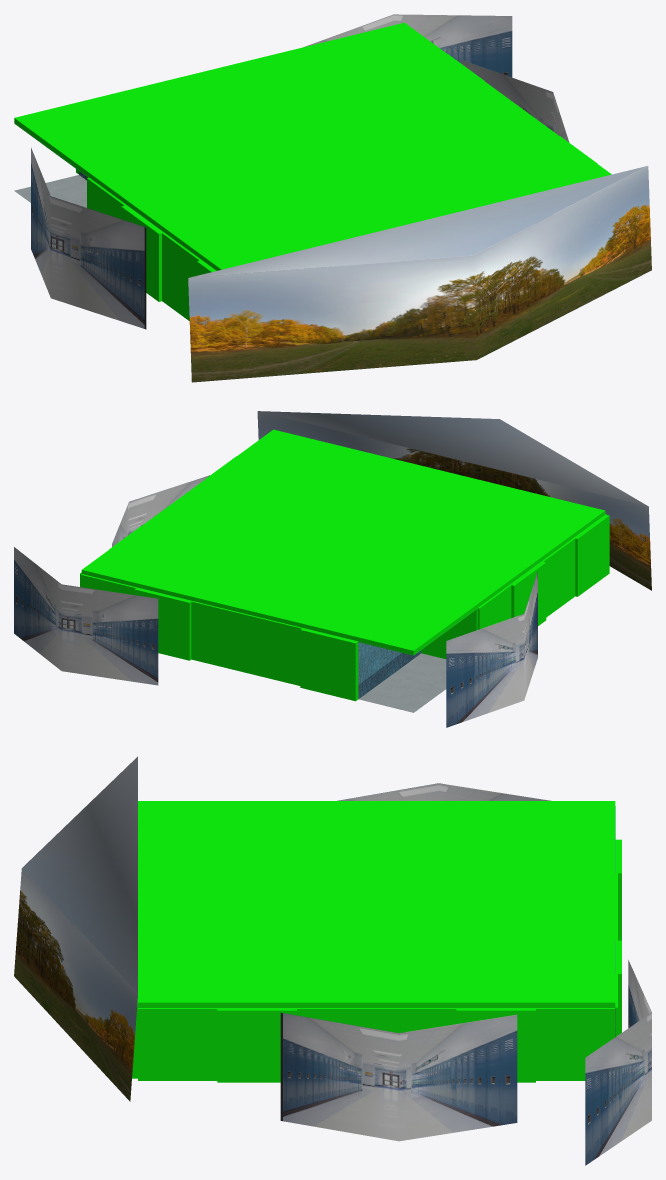
The model's file is Cafeteria.glb.
3 renders of one model, top to bottom at view 1: azimuth 30°, elevation 25°; view 2: azimuth 150°, elevation 25°; view 3: azimuth 270°, elevation 25°, orthographic. The views are drawn at different scales.
Visible parts, largest first — view 1: ImpostorBox.060, Exterior1, Exterior1.001, Exterior1.002, ImpostorBox.036, ImpostorBox.038, Floor, ImpostorBox.037; view 2: ImpostorBox.060, Exterior1, Exterior1.002, Exterior1.001, ImpostorBox.047, ImpostorBox.049, ImpostorBox.048, Floor, ImpostorBox.045, ImpostorBox.039, ImpostorBox.036, ImpostorBox.038 (+4 smaller); view 3: ImpostorBox.060, Exterior1.001, Exterior1, Exterior1.002, ImpostorBox.028, ImpostorBox.043, ImpostorBox.031, ImpostorBox.044, ImpostorBox.030, ImpostorBox.029.
Boxes of the visible parts, x1,y1,x2,y2 form: ImpostorBox.060: [14, 22, 611, 270]; Exterior1: [188, 166, 651, 382]; Exterior1.001: [31, 60, 569, 329]; Exterior1.002: [303, 14, 512, 77]; ImpostorBox.036: [162, 232, 201, 320]; ImpostorBox.038: [121, 205, 163, 301]; Floor: [14, 175, 86, 207]; ImpostorBox.037: [87, 177, 126, 218]; ImpostorBox.060: [81, 429, 605, 655]; Exterior1: [257, 411, 651, 590]; Exterior1.002: [14, 547, 158, 685]; Exterior1.001: [112, 475, 537, 727]; ImpostorBox.047: [300, 628, 358, 701]; ImpostorBox.049: [191, 601, 247, 672]; ImpostorBox.048: [246, 614, 302, 685]; Floor: [358, 653, 446, 712]; ImpostorBox.045: [134, 587, 191, 660]; ImpostorBox.039: [574, 514, 609, 596]; ImpostorBox.036: [542, 538, 575, 617]; ImpostorBox.038: [510, 561, 546, 625]; ImpostorBox.060: [137, 801, 615, 1008]; Exterior1.001: [280, 783, 551, 1141]; Exterior1: [14, 756, 137, 1101]; Exterior1.002: [585, 960, 651, 1165]; ImpostorBox.028: [138, 1008, 217, 1080]; ImpostorBox.043: [217, 1008, 296, 1082]; ImpostorBox.031: [536, 1008, 615, 1080]; ImpostorBox.044: [456, 1008, 535, 1082]; ImpostorBox.030: [376, 1008, 456, 1032]; ImpostorBox.029: [297, 1008, 376, 1029].
Size of the model in its own units: 198 by 46.5 by 192.
Materials: 3 (1 with a texture image).
